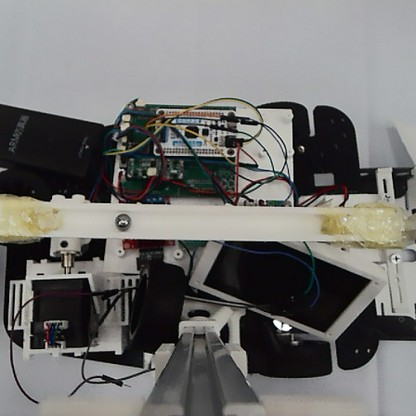ironball: (113, 210, 132, 230)
